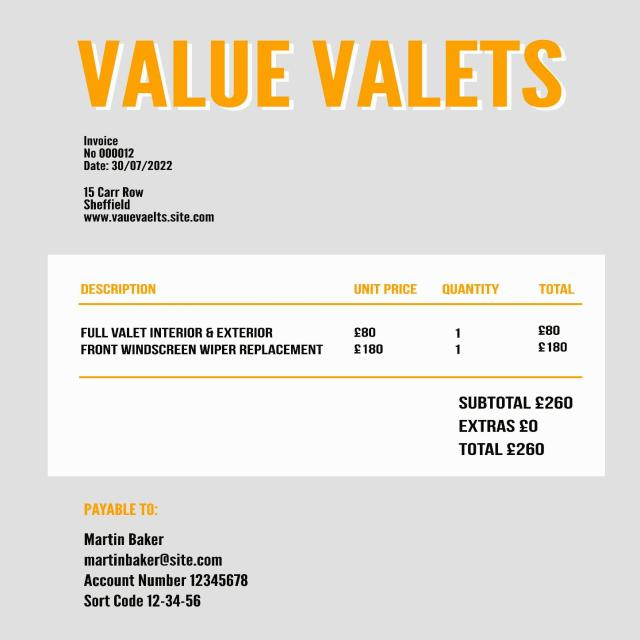paragraph: (72, 33, 578, 122), (75, 496, 263, 624), (448, 384, 588, 464), (79, 186, 230, 232), (75, 135, 186, 180)
table: (49, 257, 609, 379)
